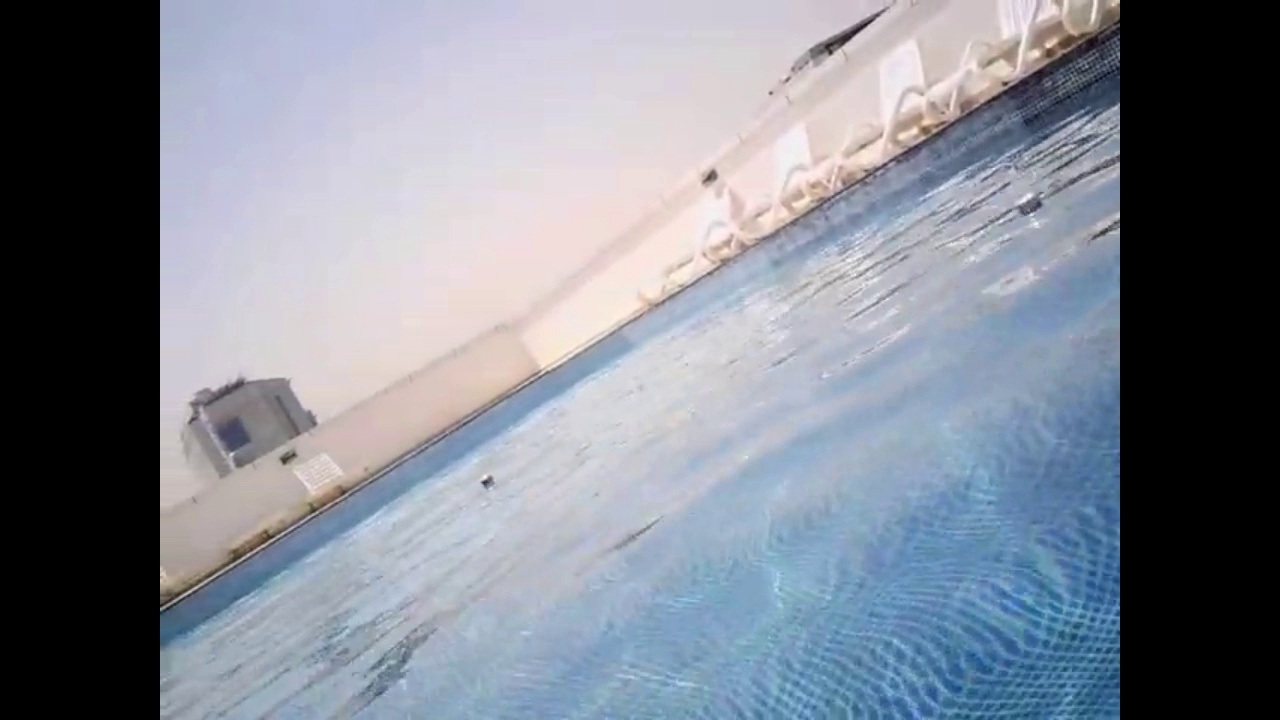debris: (1010, 186, 1047, 221), (476, 470, 498, 492)
